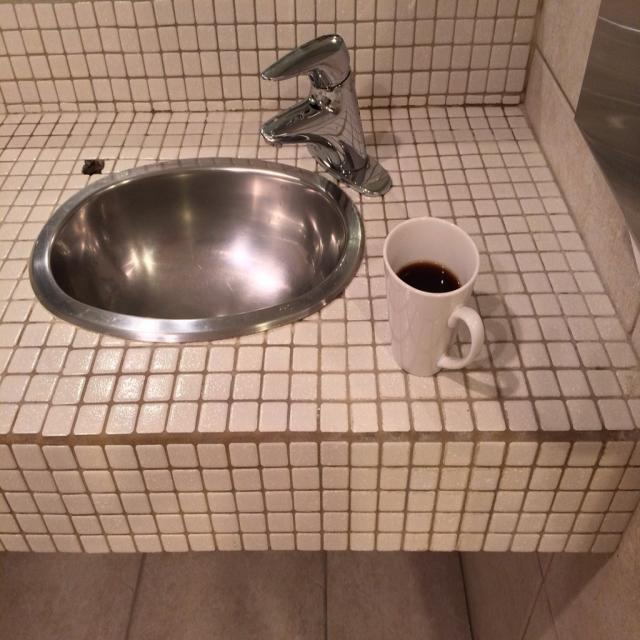Coffee: (395, 262, 461, 304)
Tea: (398, 263, 463, 294)
